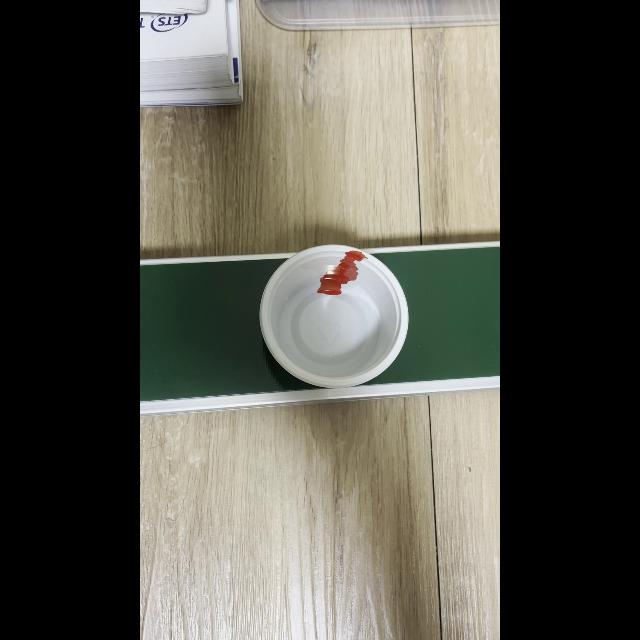dirty: (265, 252, 395, 382)
